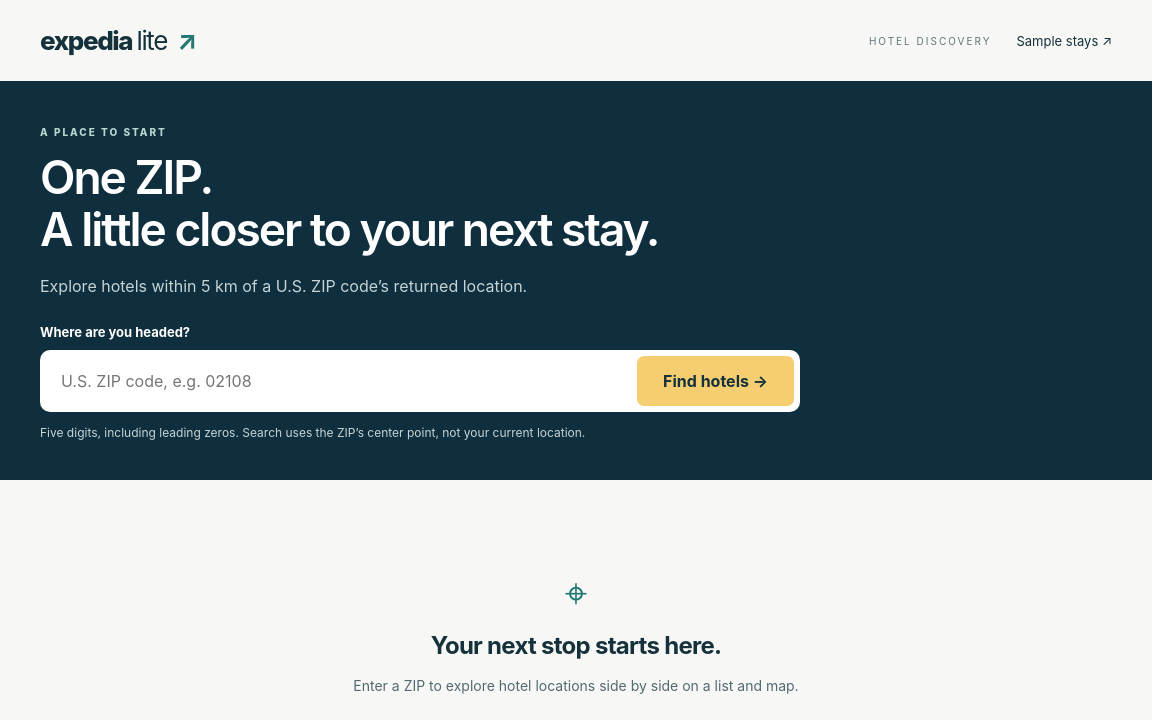
Test: reports network failure
Type "02108" into the field labelled "Where are you headed?".
click(338, 381); type("02108")  # box [46, 356, 629, 406]
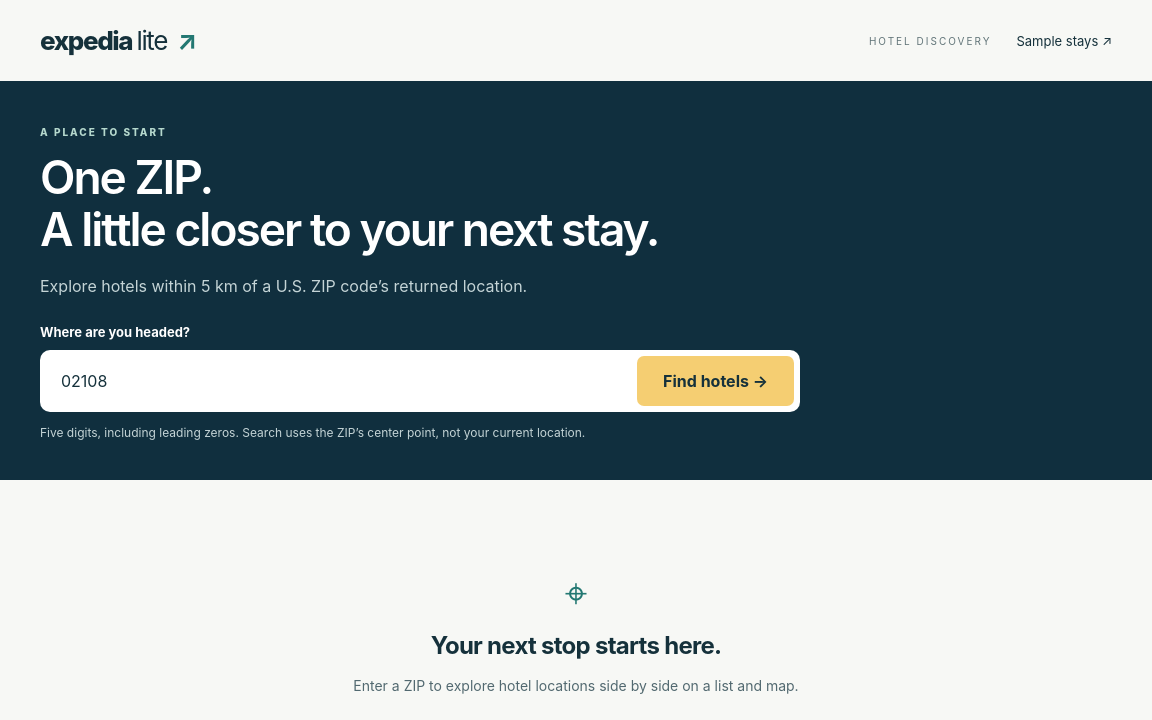
Submit the form, box [40, 324, 800, 442]
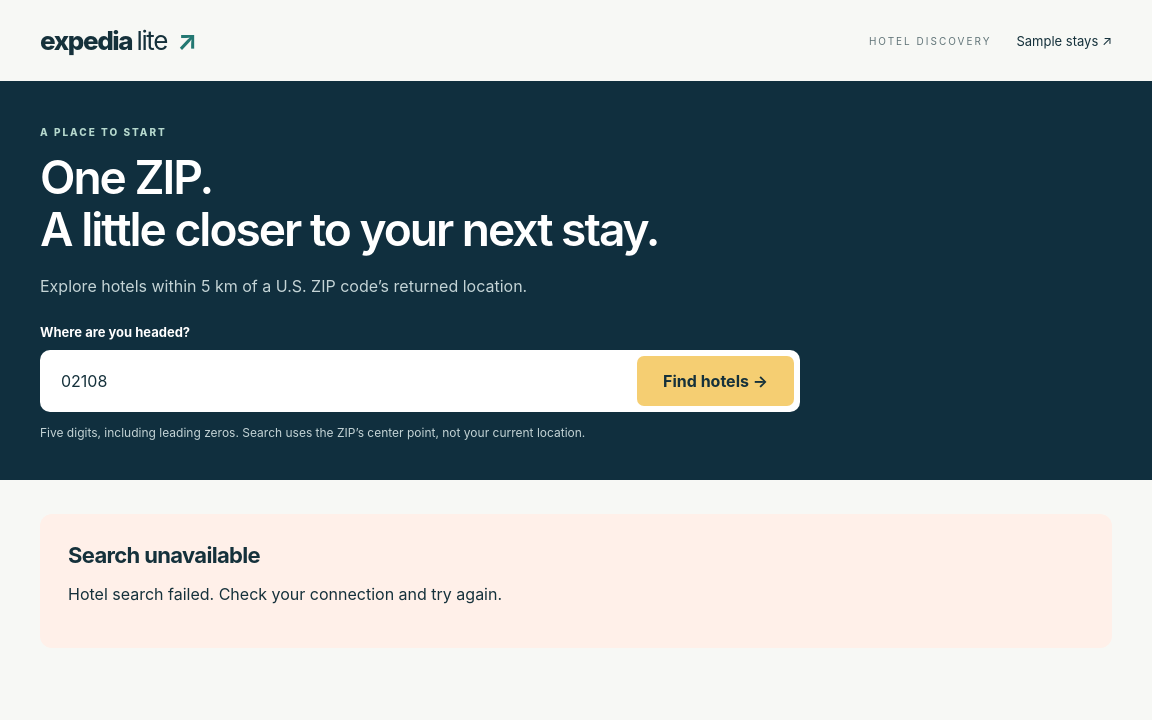
Result: the message "Search unavailable Hotel search failed. Check your connection and try again." is shown at [40, 514, 1112, 648]
